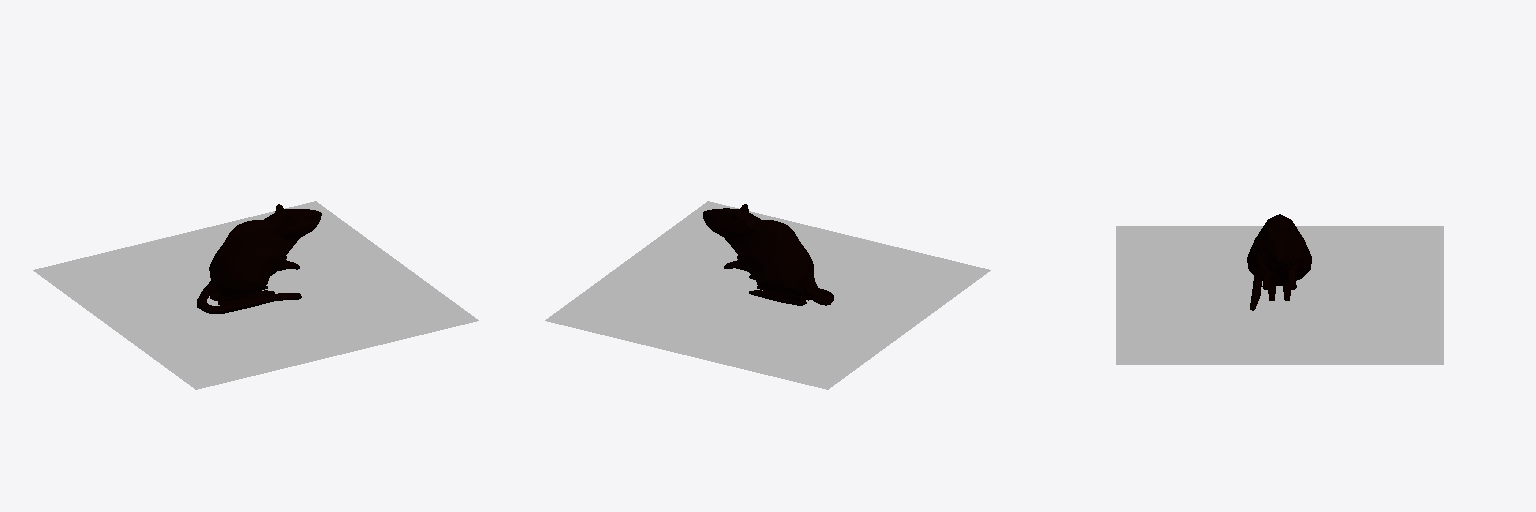
File: oldrat.obj
3 renders of one model, left to right at view 1: azimuth 30°, elevation 25°; view 2: azimuth 150°, elevation 25°; view 3: azimuth 270°, elevation 25°, orthographic.
Parts seen in each view (by area): view 1: Plane.001_Plane.002, Plane; view 2: Plane.001_Plane.002, Plane; view 3: Plane.001_Plane.002, Plane.
Boxes of the visible parts, x1,y1,x2,y2 form: Plane.001_Plane.002: [33, 201, 478, 389]; Plane: [197, 204, 321, 313]; Plane.001_Plane.002: [545, 201, 990, 389]; Plane: [703, 204, 833, 305]; Plane.001_Plane.002: [1116, 226, 1443, 364]; Plane: [1247, 214, 1311, 310].
Bounding box in the file's own units: 10.23 × 2.81 × 10.23.